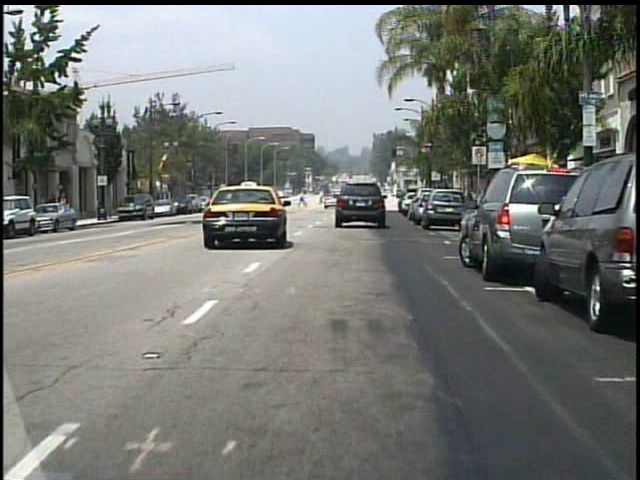person: (46, 192, 62, 225), (61, 193, 72, 223), (318, 189, 326, 208), (299, 191, 307, 208)
